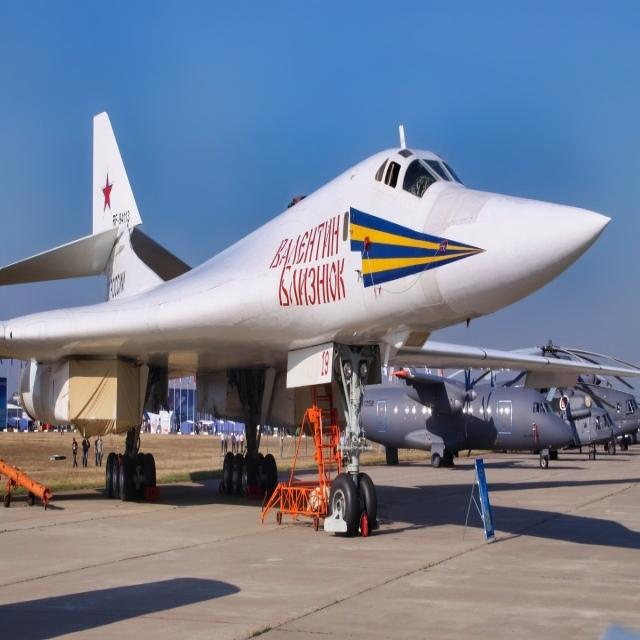Tu160: (0, 106, 622, 477)
